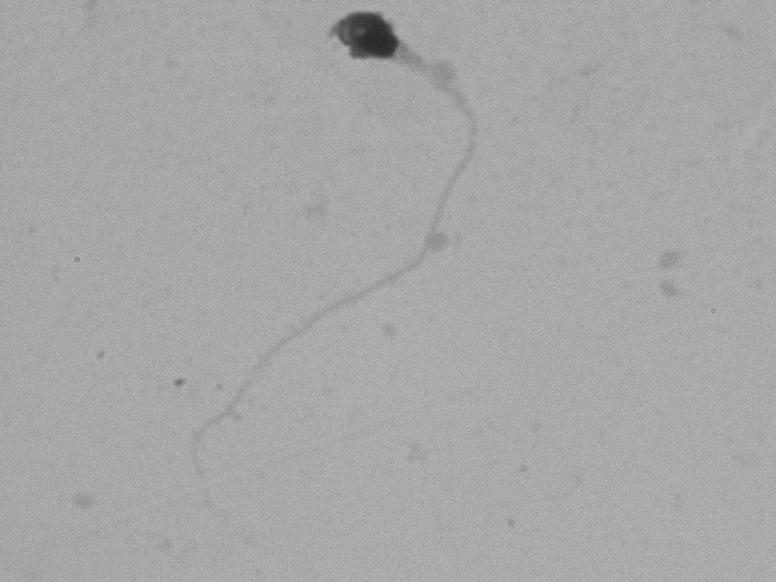Abnormal: (206, 5, 561, 499)
